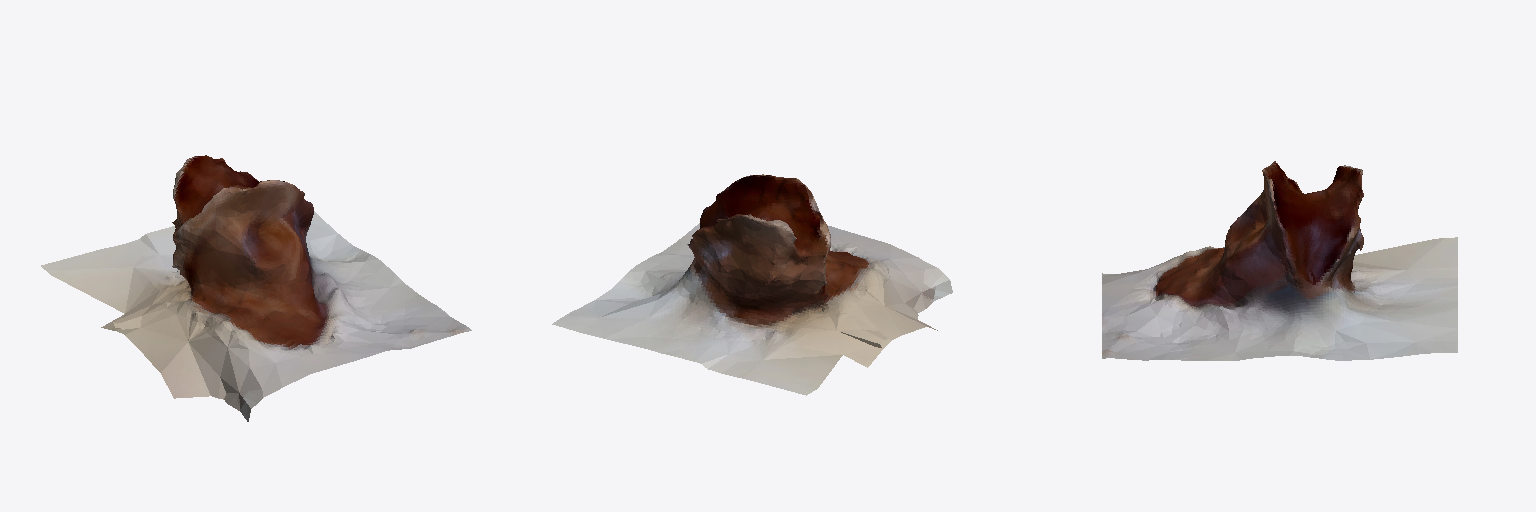
3 views of the same model, side by side, from view 1: azimuth 30°, elevation 25°; view 2: azimuth 150°, elevation 25°; view 3: azimuth 270°, elevation 25° (orthographic).
Visible parts, largest first — view 1: mesh; view 2: mesh; view 3: mesh.
Part boxes in pixels (x1,y1,x2,y2): mesh: (41,155,471,421); mesh: (552,174,952,395); mesh: (1102,161,1457,360).
Size of the model in its own units: 0.1732 by 0.1017 by 0.209.
Materials: 1 (1 with a texture image).